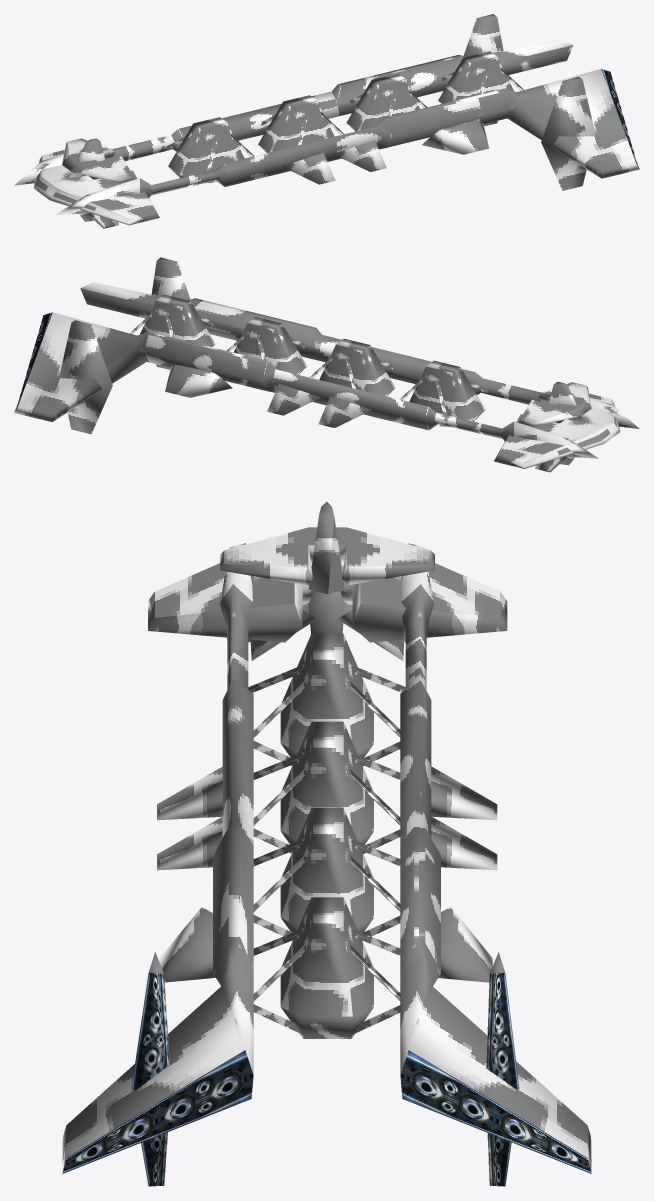
File: ptvt01a.obj
3 renders of one model, top to bottom at view 1: azimuth 30°, elevation 25°; view 2: azimuth 150°, elevation 25°; view 3: azimuth 270°, elevation 25°, orthographic. The views are drawn at different scales.
Parts seen in each view (by area): view 1: PTVT_ADD060, PTVT_JETS0; view 2: PTVT_ADD060, PTVT_JETS0; view 3: PTVT_ADD060, PTVT_JETS0.
Boxes of the visible parts, left/top/right/bottom form: PTVT_ADD060: left=14, top=14, right=639, bottom=228; PTVT_JETS0: left=601, top=69, right=639, bottom=168; PTVT_ADD060: left=14, top=257, right=639, bottom=472; PTVT_JETS0: left=14, top=312, right=52, bottom=411; PTVT_ADD060: left=62, top=502, right=591, bottom=1172; PTVT_JETS0: left=62, top=973, right=591, bottom=1186.
Bounding box in the file's own units: 147 × 31.05 × 60.21.
2 materials, 2 textured.
